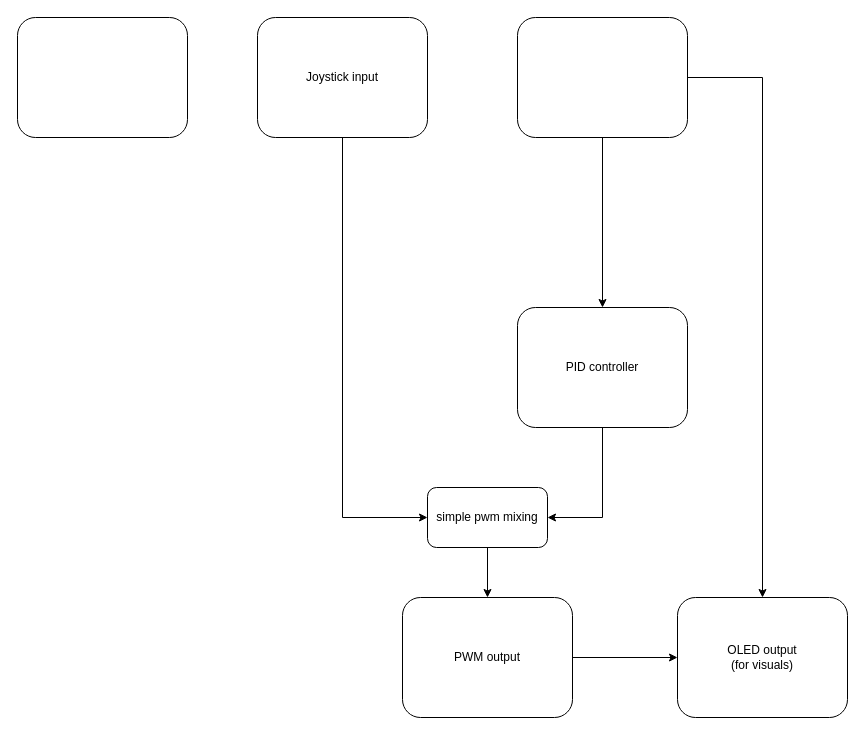
Some shapes in this 865 by 735 pixel diagram are drawn without their labels. Each missing label, with the centre of its shape:
"Encoder input" belongs at [102,77].
"IMU input" belongs at [602,77].
